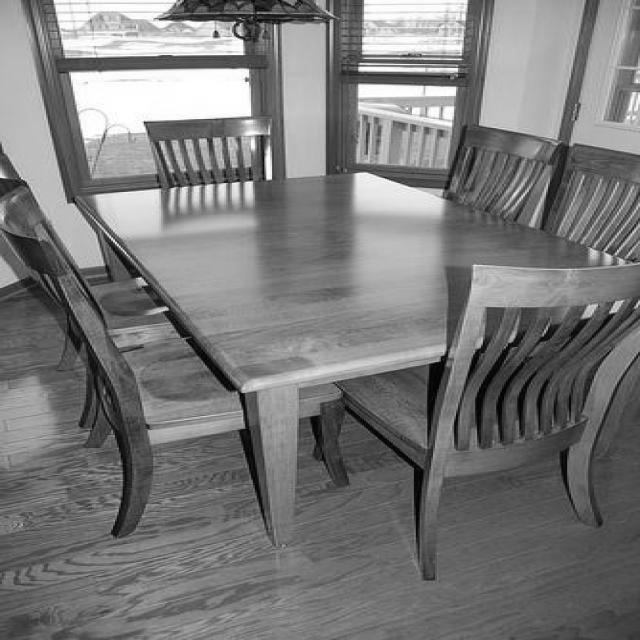chair: (1, 190, 354, 538), (306, 248, 639, 579)
table: (52, 168, 636, 546)
